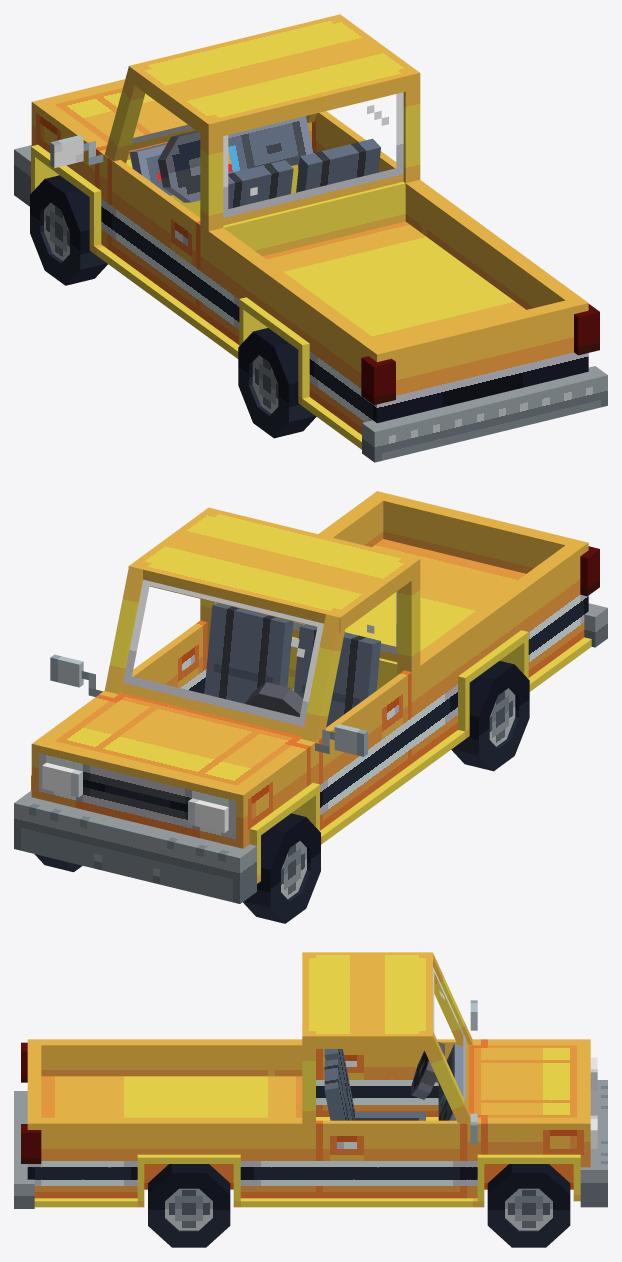
The model's file is pickup-yellow.gltf.
The picture shows the model from 3 angles, top to bottom: view 1: azimuth 30°, elevation 25°; view 2: azimuth 150°, elevation 25°; view 3: azimuth 270°, elevation 25°; orthographic projection. The views are drawn at different scales.
Parts seen in each view (by area): view 1: cube (×37), tube (×2), cylinder (×3); view 2: cube (×37), tube (×2), cylinder (×3); view 3: cube (×37), tube (×2), cylinder (×3).
Boxes of the visible parts, box(x1,y1,x2,y2) form: cube (×37): box(14, 14, 607, 462); tube (×2): box(30, 175, 316, 438); cylinder (×3): box(44, 131, 278, 413); cube (×37): box(14, 491, 607, 903); tube (×2): box(243, 661, 529, 923); cylinder (×3): box(245, 682, 515, 899); cube (×37): box(14, 952, 607, 1208); tube (×2): box(148, 1164, 570, 1247); cylinder (×3): box(165, 1042, 552, 1230).
Bounding box in the file's own units: 2.15 × 1.65 × 4.32.
2 materials, 2 textured.
